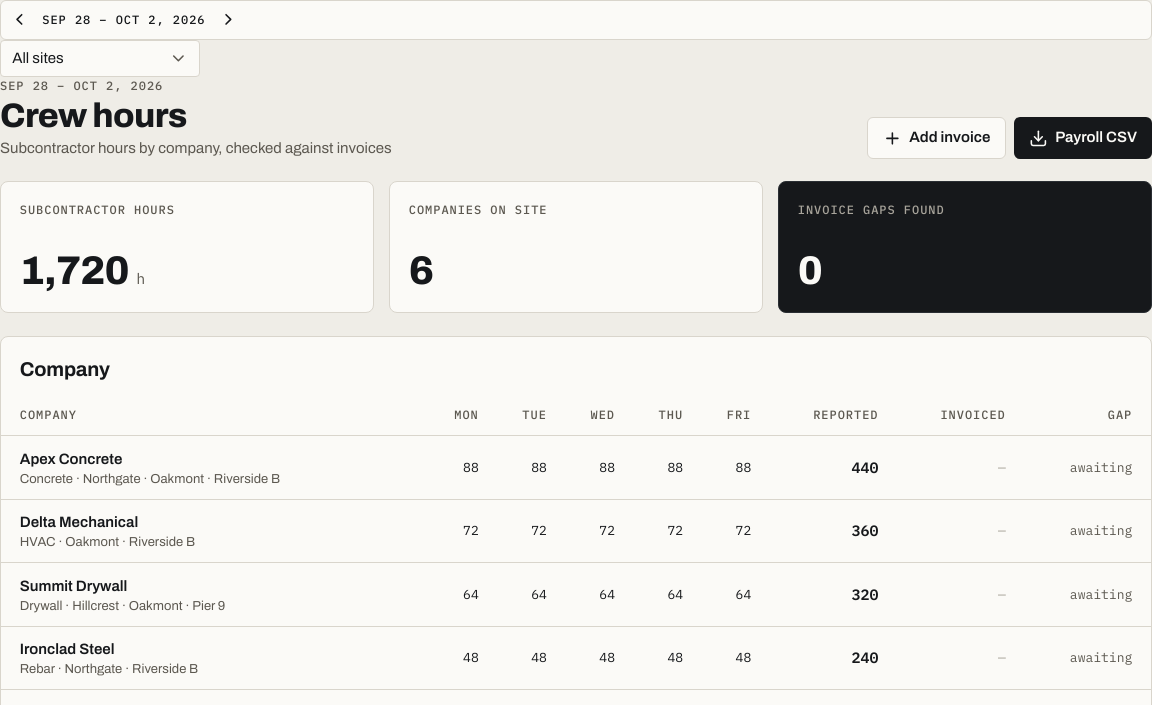
Test: HoursPage (demo data, week 2026-W41) › reads the week and site from the URL and steps weeks
Expected: the text with test id "week-label" reads "SEP 28 – OCT 2, 2026", [42, 12, 206, 27]
Click the button named "Next week" at (228, 20), box [209, 1, 247, 38]
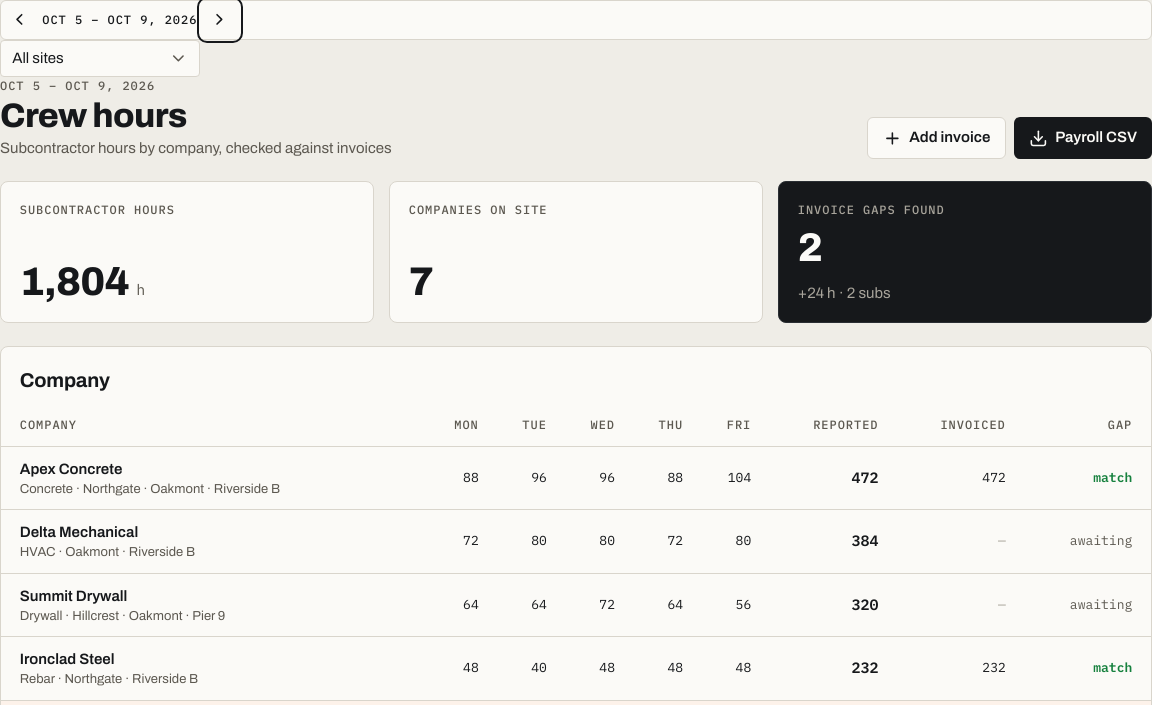
Expected: the text with test id "week-label" reads "OCT 5 – OCT 9, 2026", [42, 12, 197, 27]
